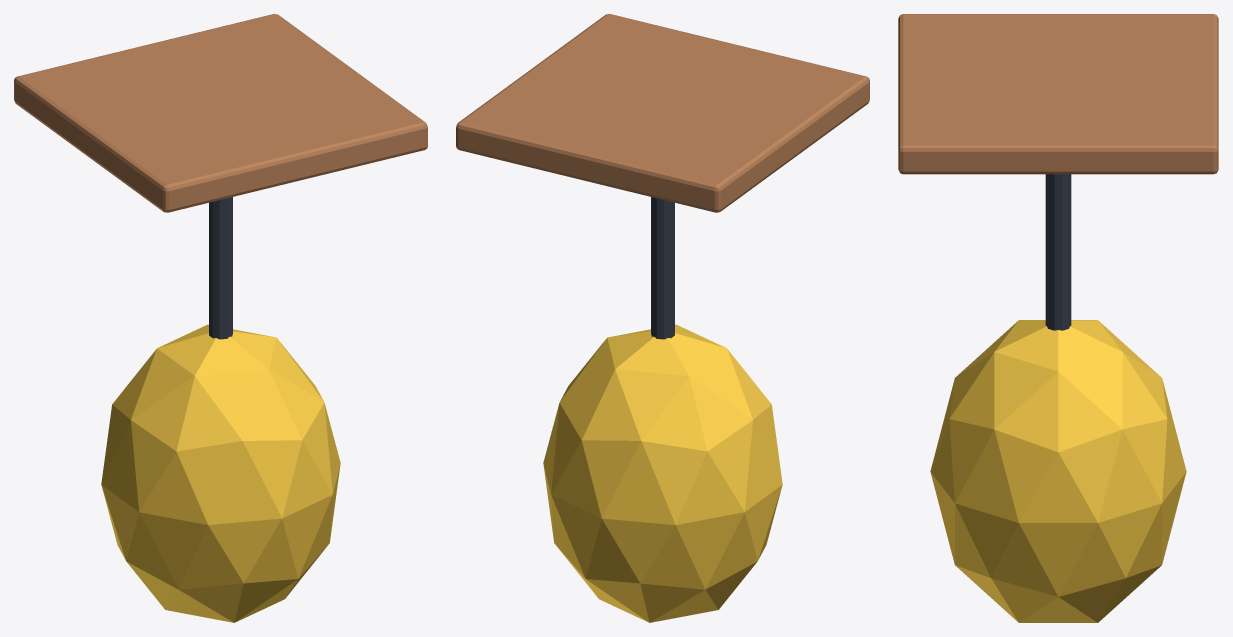
The model's file is Boxing_SpeedBag.fbx.
3 views of the same model, side by side, from view 1: azimuth 30°, elevation 25°; view 2: azimuth 150°, elevation 25°; view 3: azimuth 270°, elevation 25° (orthographic). The views are drawn at different scales.
Parts seen in each view (by area): view 1: SpeedBag; view 2: SpeedBag; view 3: SpeedBag.
Part boxes in pixels (left/top/right/bottom): SpeedBag: left=14, top=14, right=427, bottom=622; SpeedBag: left=456, top=14, right=869, bottom=622; SpeedBag: left=898, top=14, right=1218, bottom=622.
Size of the model in its own units: 0.5 by 0.935 by 0.5.
